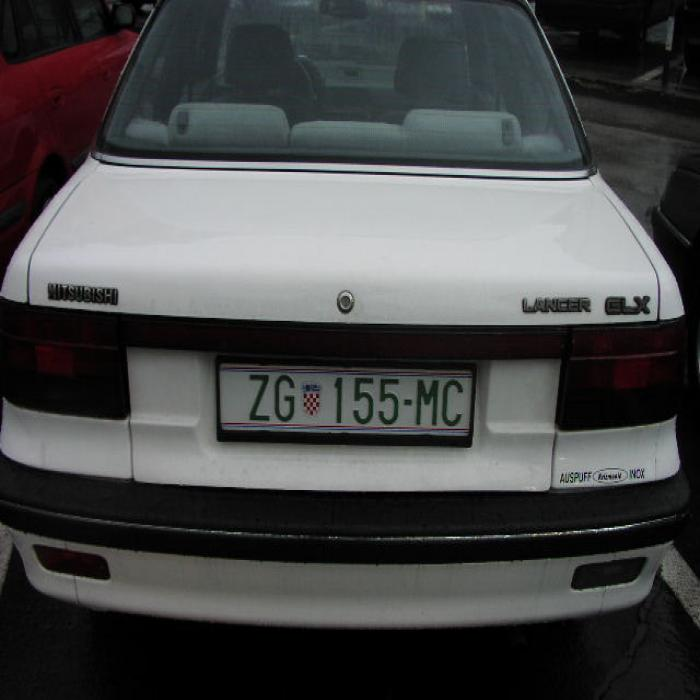number_plate: (218, 366, 470, 435)
